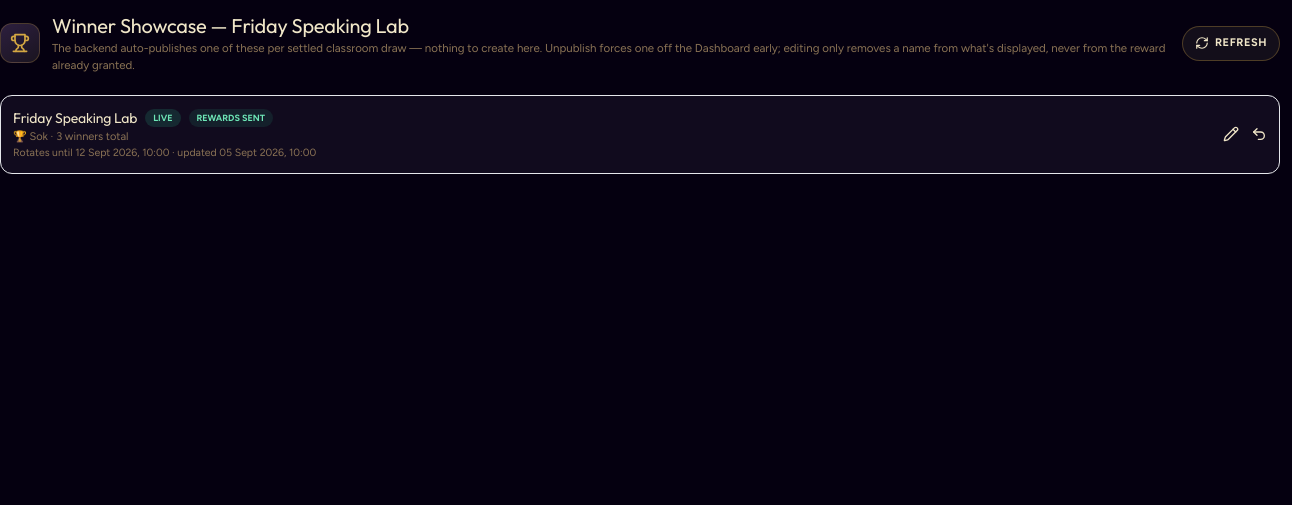
removing a winner and saving sends the FULL content object via the existing PUT route, with only topWinners changed
Later steps or results of the test are not shown.
Expected: the element with test id "winnershowcase-row-ws-1" is shown, [0,94,1280,174]
What coordinates should you click on to do the following:
click the button with test id "winnershowcase-edit-ws-1"
I would click on:
 (1231, 134)
Its box is [1223,126,1239,142].
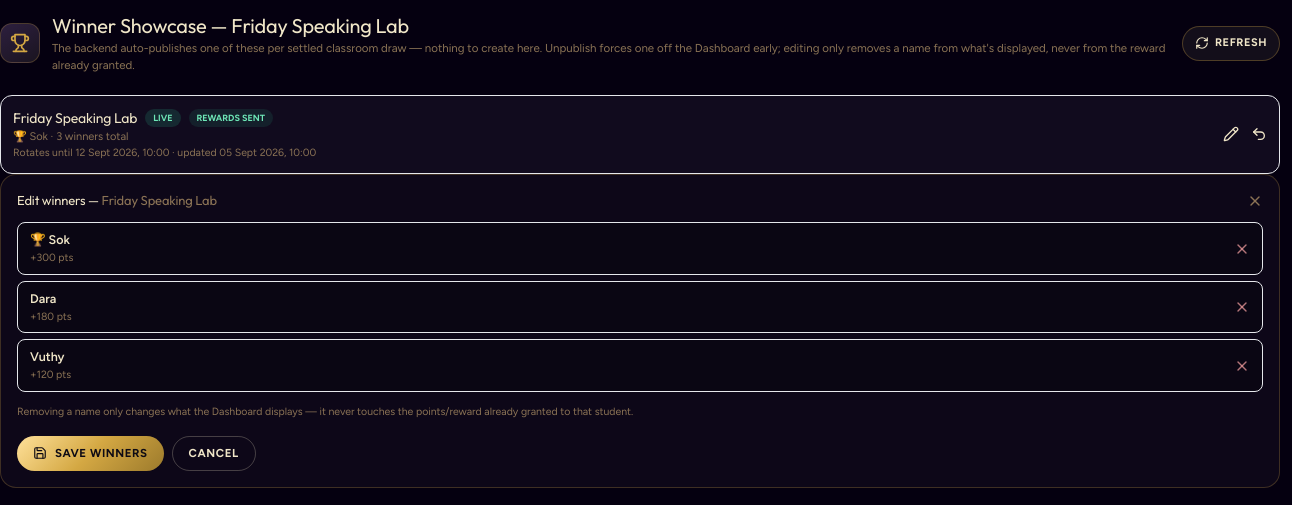
Expected: the element with test id "winnershowcase-editor-ws-1" shows "Sok", [49,232,70,247]
Expected: the element with test id "winnershowcase-editor-ws-1" shows "Dara", [30,291,56,306]
Expected: the element with test id "winnershowcase-editor-ws-1" shows "Vuthy", [30,349,65,364]
Note: Remove the #2 winner (Dara).
What coordinates should you click on to do the following:
click the button with test id "winnershowcase-remove-winner-1"
I would click on:
 (1242, 307)
Its box is [1234,299,1250,315].
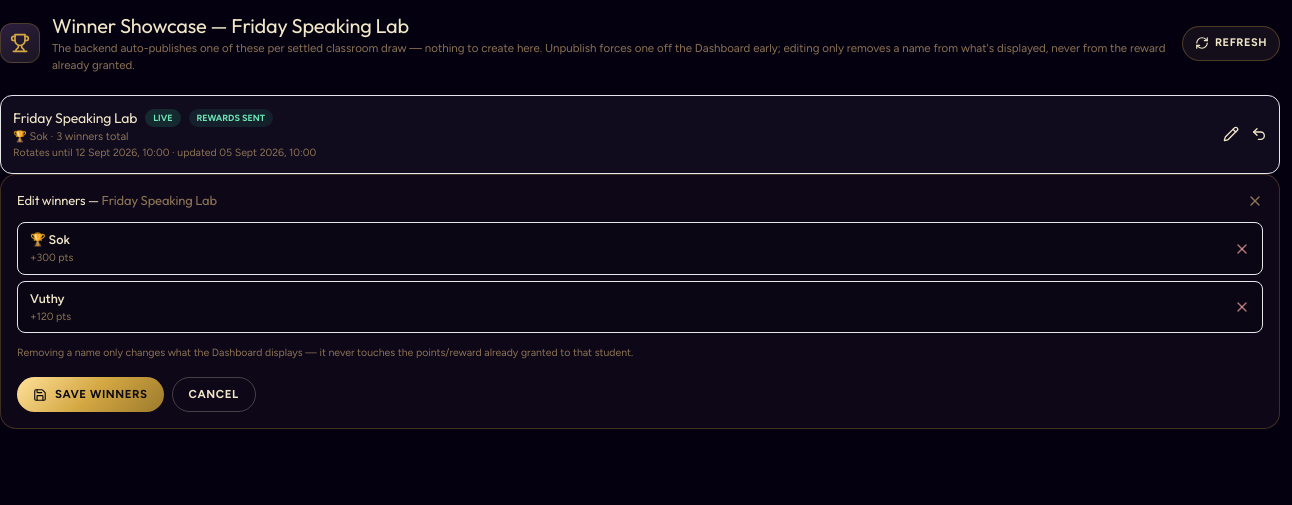
Expected: the element with test id "winnershowcase-editor-ws-1" shows "Sok", [49,232,70,247]
Expected: the element with test id "winnershowcase-editor-ws-1" shows "Vuthy", [30,291,65,306]
Expected: the element with test id "winnershowcase-editor-ws-1" no longer shows "Dara", [0,174,1280,429]
